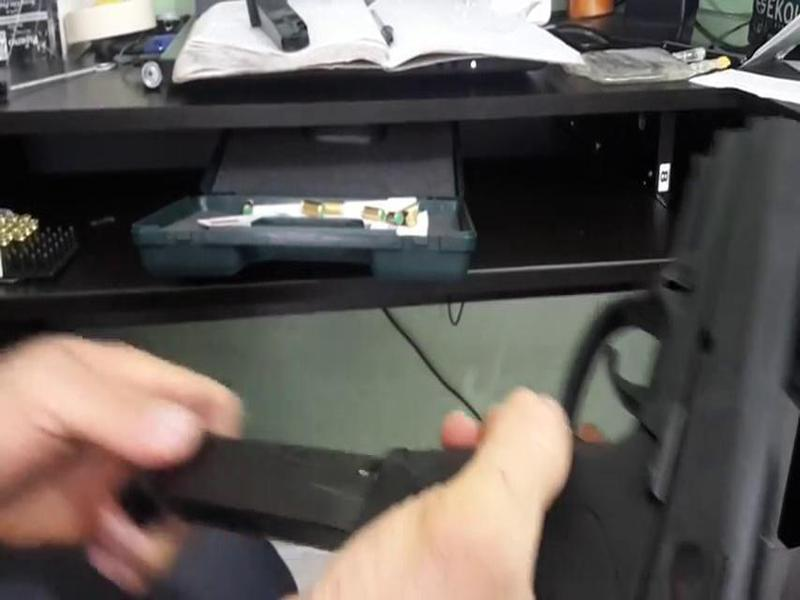Pistola: (374, 86, 800, 598)
